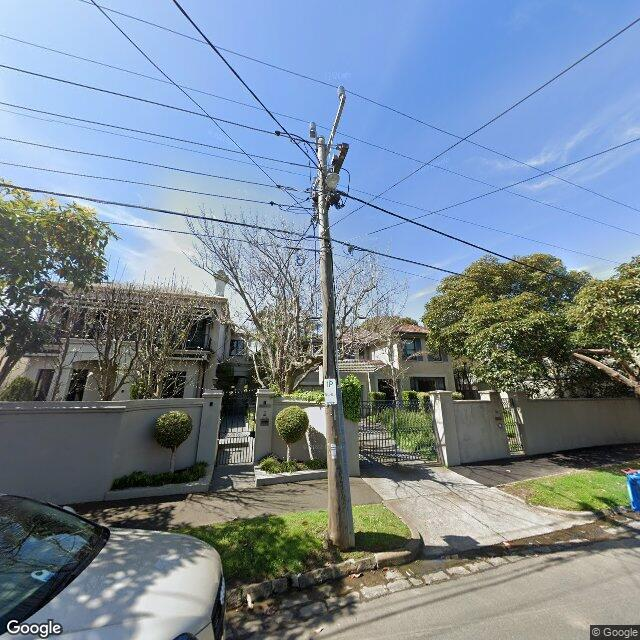HV-transmission: (309, 85, 346, 141)
crossarm: (270, 130, 349, 210), (326, 94, 347, 150)
timber-pole: (317, 137, 355, 549)
